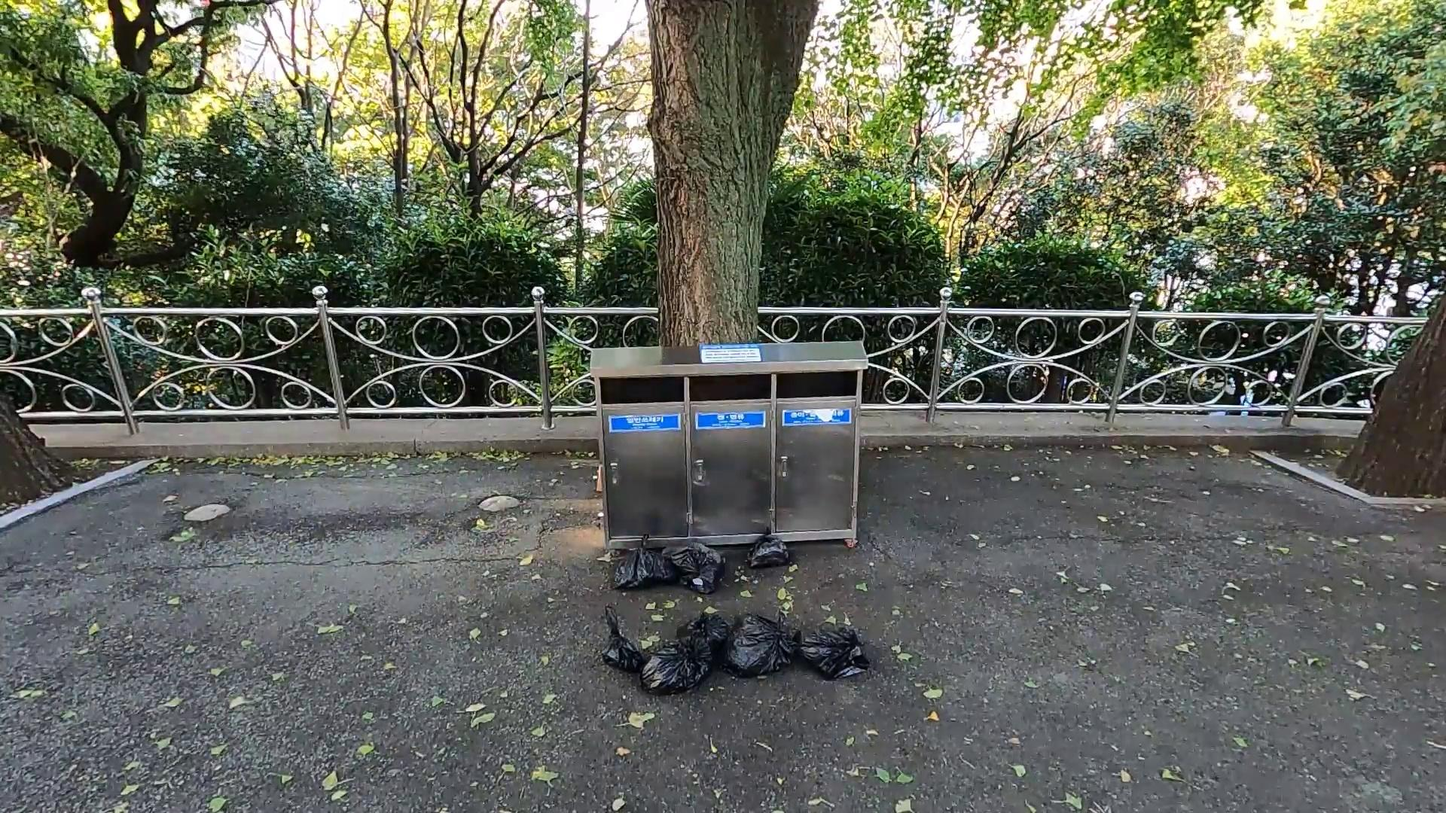trash: (720, 609, 803, 679), (789, 619, 878, 683), (631, 626, 715, 687), (600, 601, 649, 683), (660, 540, 727, 594), (607, 539, 679, 588), (676, 607, 732, 660), (742, 530, 792, 569)
